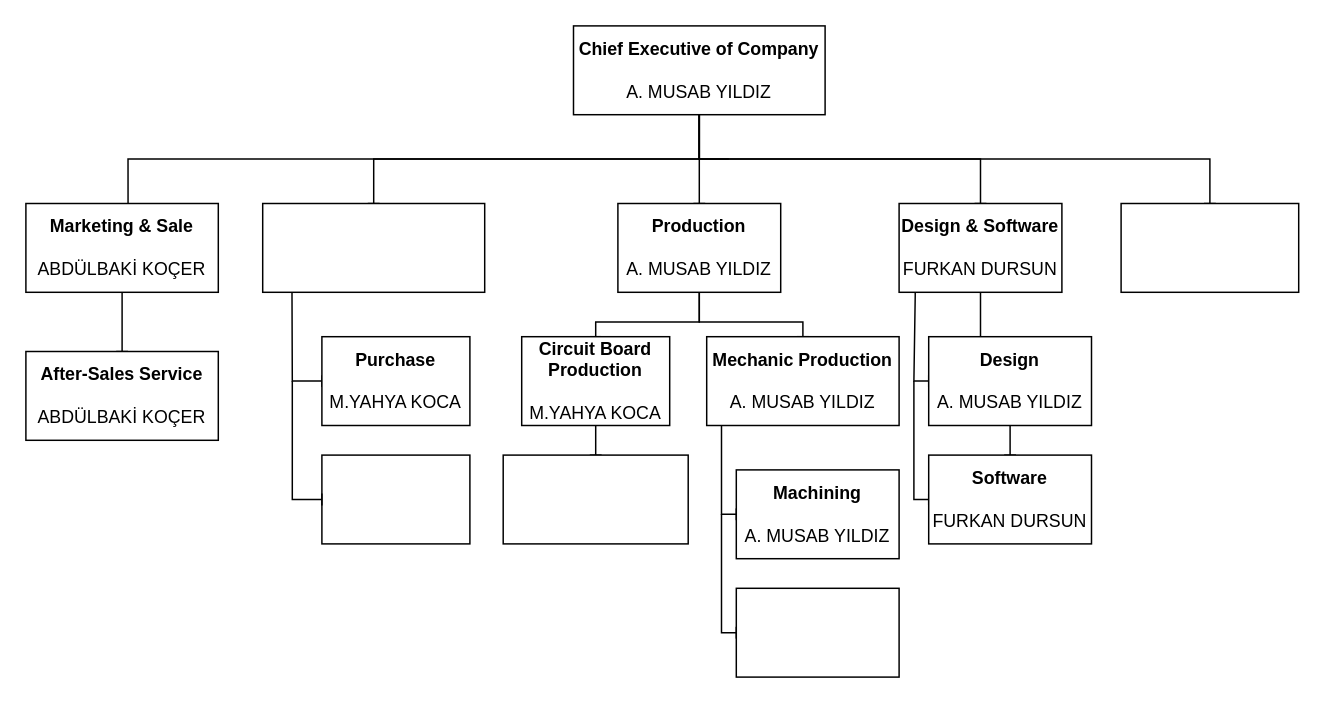
The diagram is 1325 pixels wide and 703 high, and some of its shapes have lost their labels. Each missing label, with the box of its shape:
Electronic Mounting M.YAHYA KOCA: (502, 454, 688, 544)
Finance & Management Service FEYZİ GÜNEŞ: (261, 202, 485, 292)
Mounting A. MUSAB YILDIZ: (735, 587, 899, 677)
Quality Control FURKAN DURSUN ABDÜLBAKİ KOÇER: (1120, 202, 1299, 292)
Warehouse FEYZİ GÜNEŞ: (320, 454, 470, 544)
